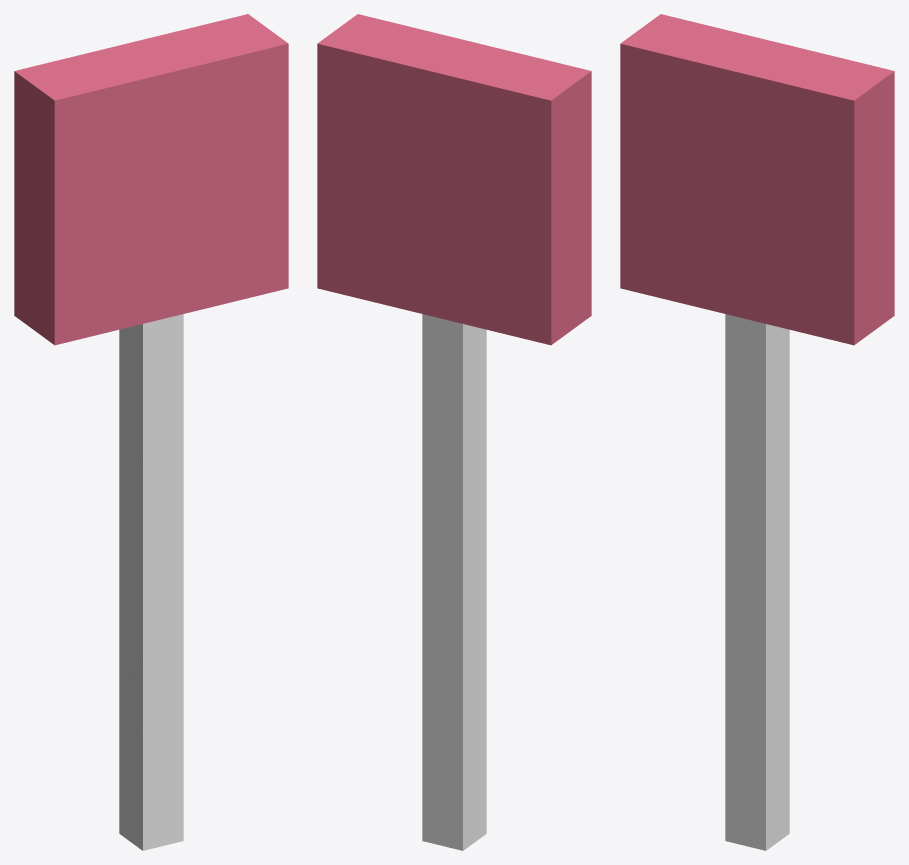
The model's file is CandylandLollypop_06.fbx.
3 views of the same model, side by side, from view 1: azimuth 30°, elevation 25°; view 2: azimuth 150°, elevation 25°; view 3: azimuth 330°, elevation 25° (orthographic).
Parts seen in each view (by area): view 1: CandylandLollypop_06; view 2: CandylandLollypop_06; view 3: CandylandLollypop_06.
Boxes of the visible parts, box(x1,y1,x2,y2) form: CandylandLollypop_06: box(14, 14, 288, 850); CandylandLollypop_06: box(317, 14, 591, 850); CandylandLollypop_06: box(620, 14, 894, 850).
Bounding box in the file's own units: 0.2013 × 0.6416 × 0.0604.
